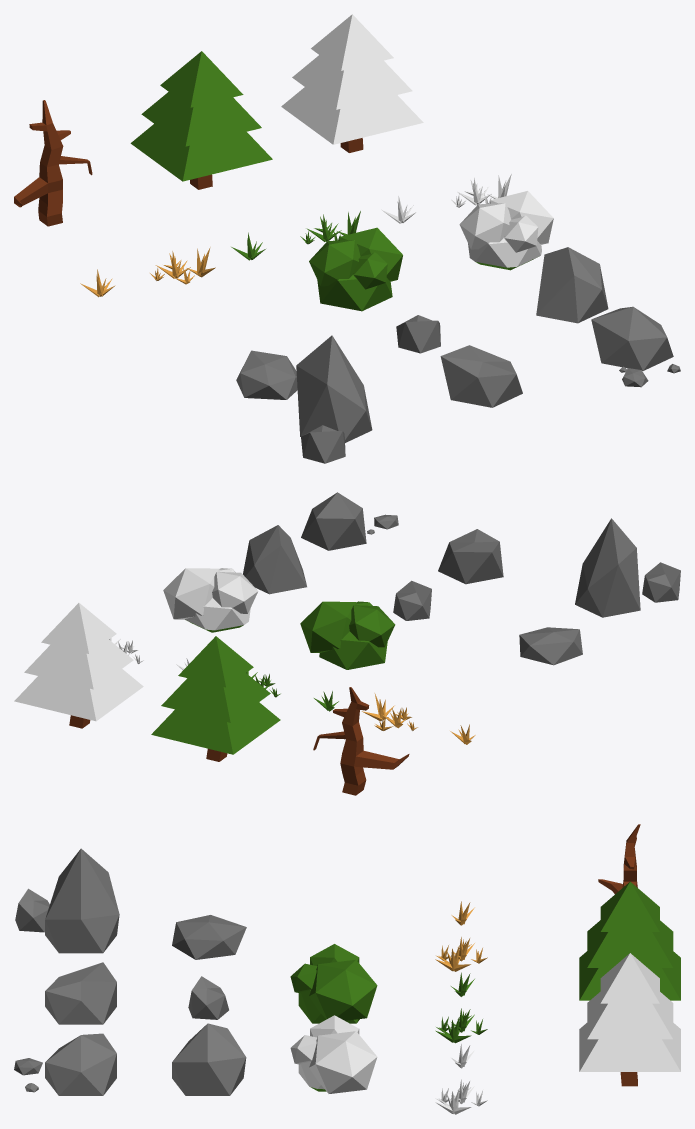
The model's file is foliage.fbx.
The picture shows the model from 3 angles, top to bottom: view 1: azimuth 30°, elevation 25°; view 2: azimuth 150°, elevation 25°; view 3: azimuth 270°, elevation 25°; orthographic projection. The views are drawn at different scales.
Parts seen in each view (by area): view 1: tree_snow, tree, Stone_cliffs, bush, bush_snow, Stone_drops, Stone_2, Stone_1, tree_ded, Stone_4, Stone_3, grass_group_ded; view 2: tree_snow, tree, Stone_cliffs, bush, bush_snow, Stone_2, Stone_drops, tree_ded, Stone_1, Stone_4, Stone_3, grass_group_ded; view 3: tree_snow, tree, Stone_cliffs, bush, bush_snow, Stone_drops, Stone_2, Stone_1, Stone_4, Stone_3, tree_ded, grass_group (+2 smaller).
Part boxes in pixels (x1,y1,x2,y2): tree_snow: [281, 14, 423, 152]; tree: [130, 51, 272, 189]; Stone_cliffs: [296, 335, 372, 463]; bush: [309, 227, 402, 311]; bush_snow: [459, 191, 553, 270]; Stone_drops: [591, 306, 680, 387]; Stone_2: [536, 247, 608, 323]; Stone_1: [440, 345, 522, 407]; tree_ded: [14, 100, 92, 226]; Stone_4: [236, 350, 297, 399]; Stone_3: [396, 315, 440, 353]; grass_group_ded: [150, 247, 215, 284]; tree_snow: [14, 603, 143, 728]; tree: [151, 636, 280, 761]; Stone_cliffs: [575, 518, 680, 617]; bush: [300, 601, 395, 669]; bush_snow: [163, 568, 258, 632]; Stone_2: [243, 525, 306, 594]; Stone_drops: [301, 492, 398, 550]; tree_ded: [313, 687, 409, 795]; Stone_1: [438, 529, 503, 584]; Stone_4: [519, 627, 582, 665]; Stone_3: [393, 580, 431, 620]; grass_group_ded: [362, 693, 417, 730]; tree_snow: [579, 953, 680, 1086]; tree: [579, 881, 680, 1000]; Stone_cliffs: [15, 848, 119, 953]; bush: [290, 944, 377, 1023]; bush_snow: [290, 1015, 377, 1093]; Stone_drops: [14, 1033, 116, 1095]; Stone_2: [172, 1023, 246, 1095]; Stone_1: [45, 962, 116, 1024]; Stone_4: [172, 915, 246, 959]; Stone_3: [188, 976, 228, 1019]; tree_ded: [598, 824, 640, 893]; grass_group: [435, 1008, 487, 1043].
Size of the model in its own units: 1133 by 355 by 1579.
